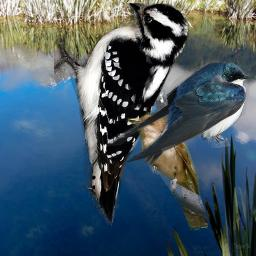Cuckoo: (126, 112, 208, 230)
Swallow: (106, 61, 250, 165)
Woodpecker: (54, 3, 189, 229)
